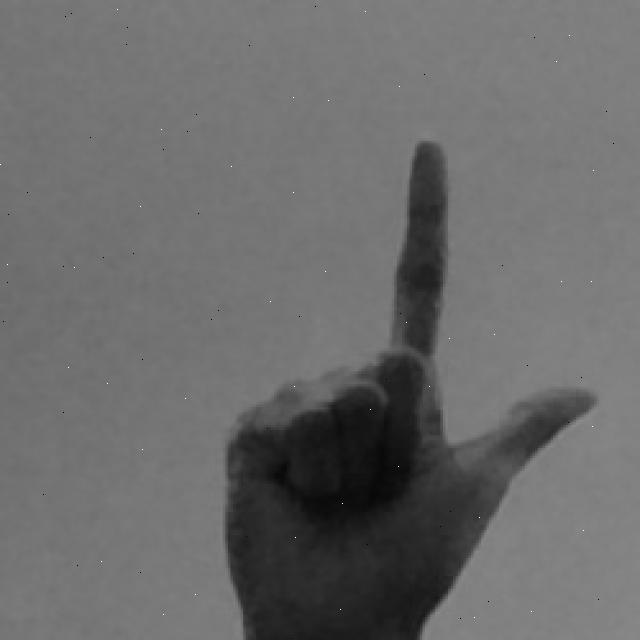L: (216, 135, 602, 640)
